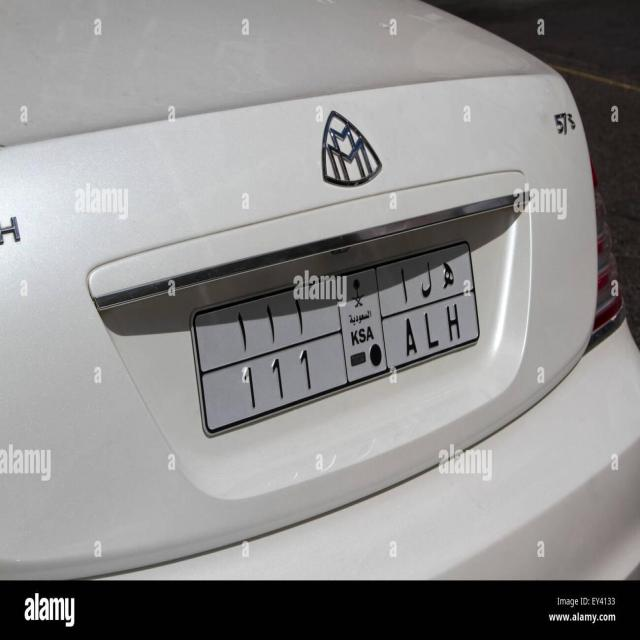license_plate: (171, 226, 495, 449)
